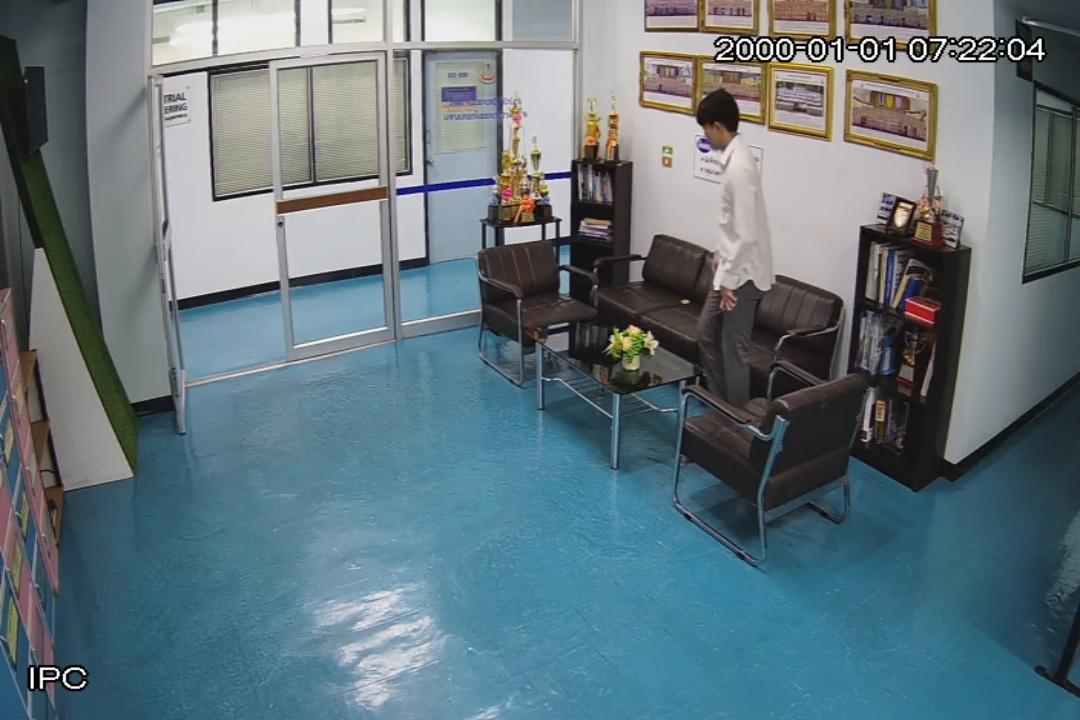normal: (678, 89, 774, 418)
